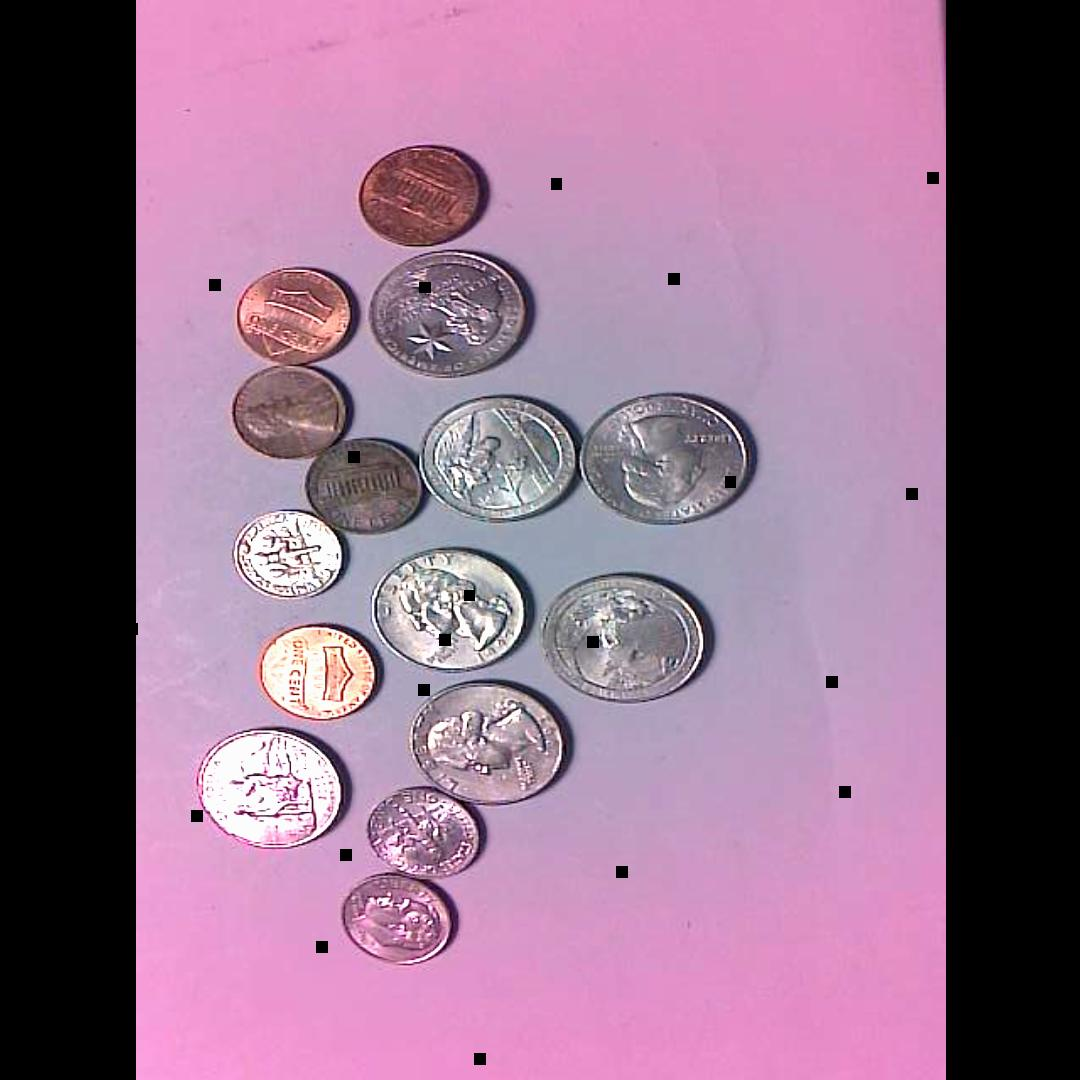Dime: (358, 783, 494, 886), (327, 869, 459, 970), (230, 510, 344, 602)
Penny: (353, 140, 488, 246), (233, 268, 365, 368), (300, 437, 424, 537), (254, 619, 369, 718), (228, 364, 346, 459)
Quarter: (573, 390, 760, 530), (367, 251, 534, 384), (189, 728, 354, 857), (545, 574, 710, 701), (369, 546, 528, 670), (408, 683, 565, 806), (426, 396, 580, 521)
